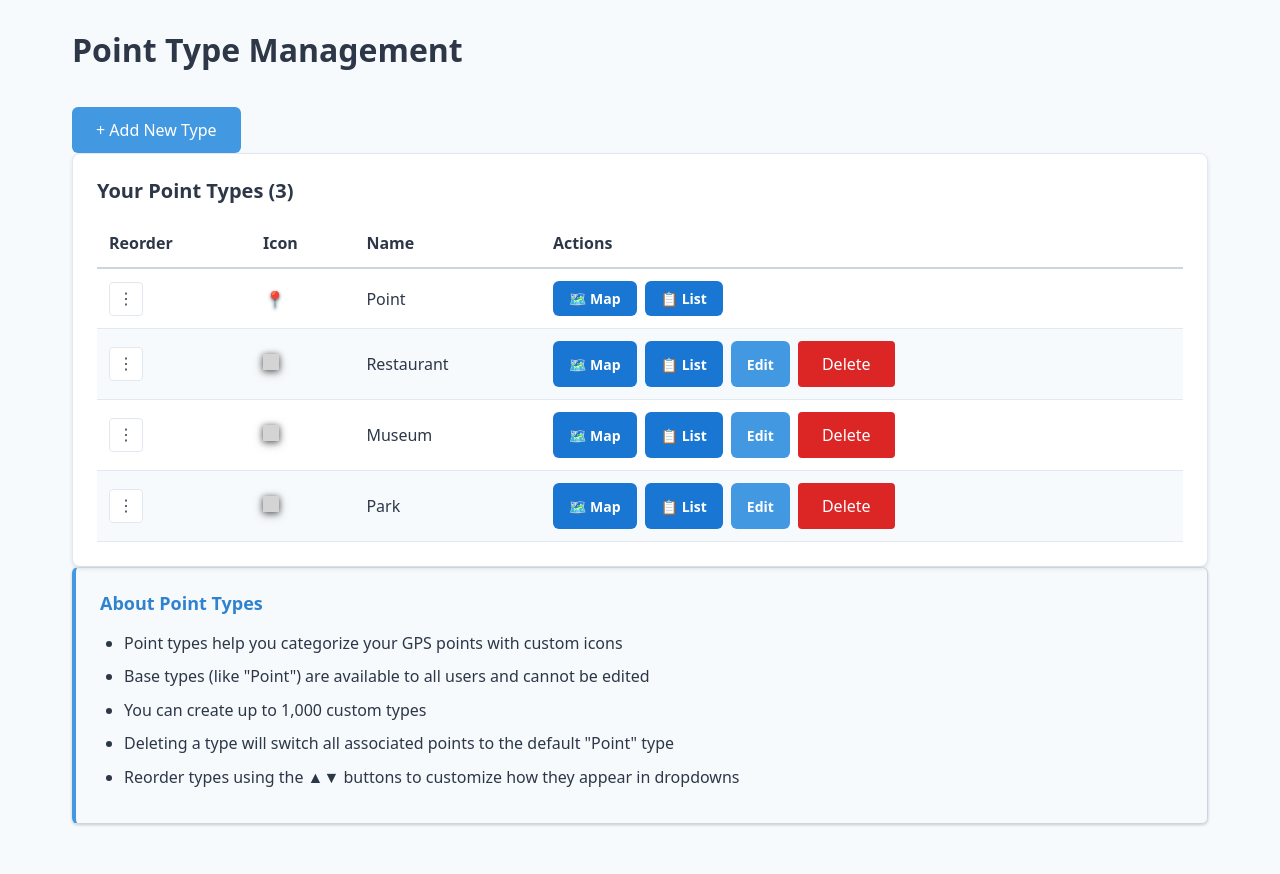
Type Management Integration Tests › Creating Types › should show error when creating duplicate type name
This screenshot has width=1280, height=874.
Check: the text "Restaurant" is shown, box [366, 353, 449, 375]
Click the button "+ Add New Type" at (156, 130), box [72, 107, 241, 153]
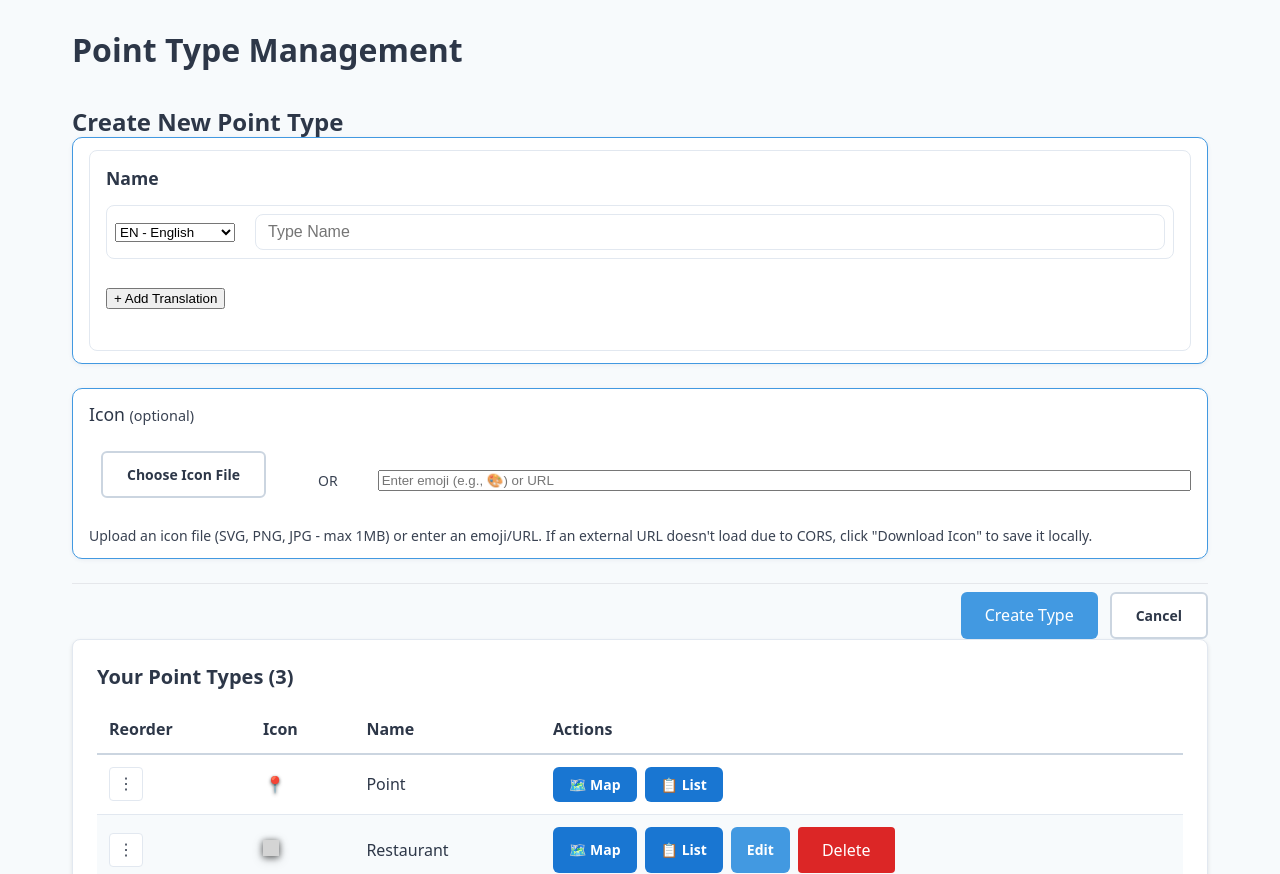
Check: the heading "Create New Point Type" is shown, box [72, 105, 343, 138]
Type "Restaurant" into the field with placeholder "Type Name" at (710, 232), box [255, 214, 1165, 250]
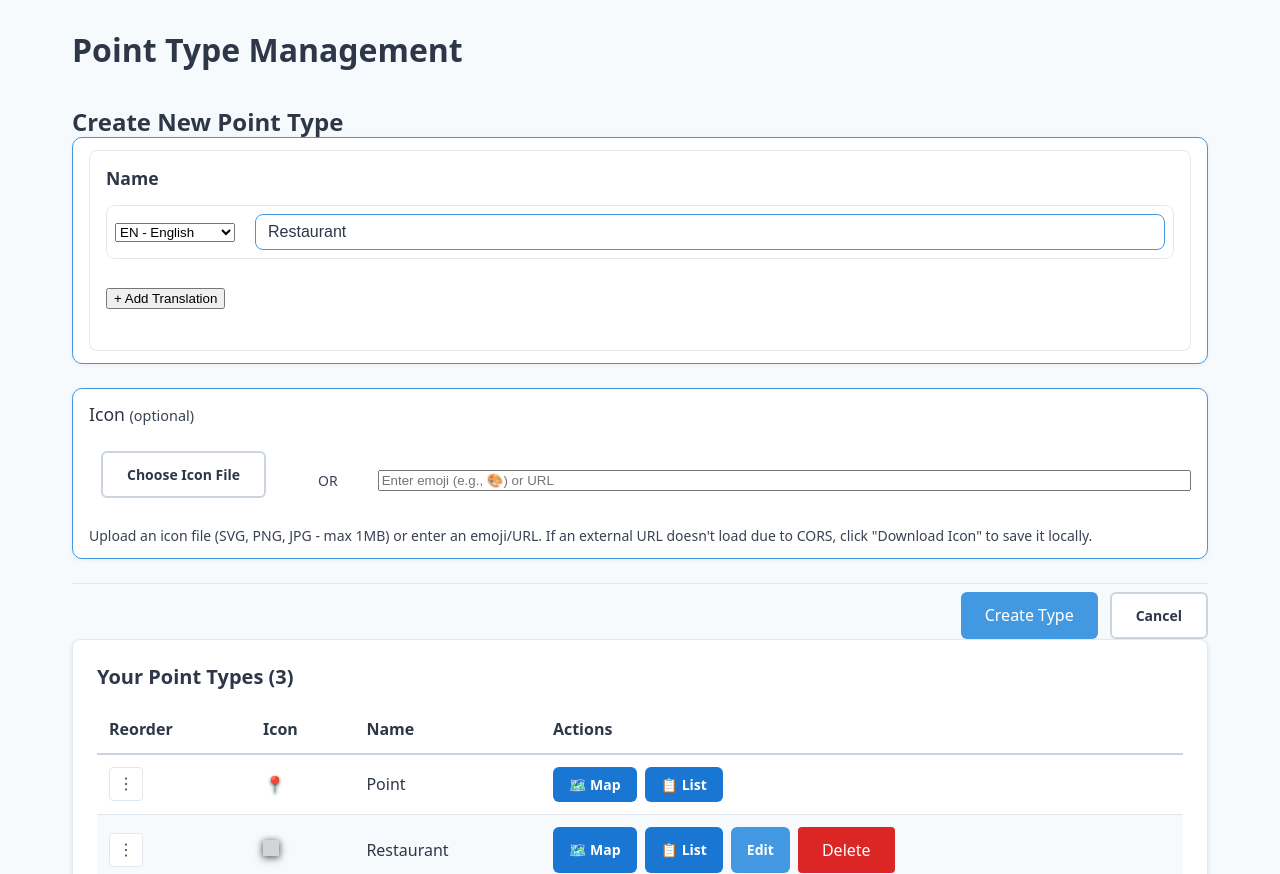
Click the button "Create Type" at (1029, 615), box [961, 592, 1098, 638]
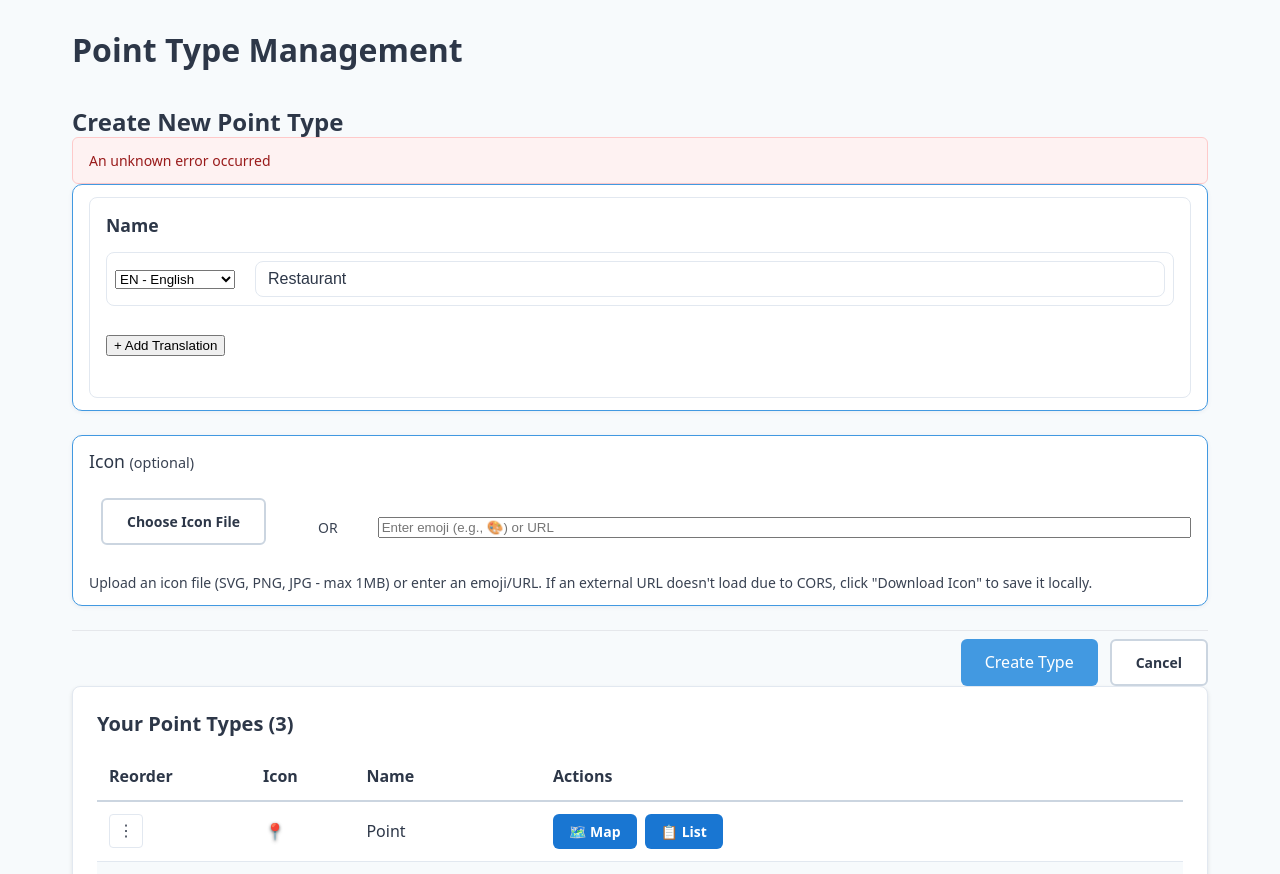
Check: the message "An unknown error occurred" is shown, box [72, 137, 1208, 184]
